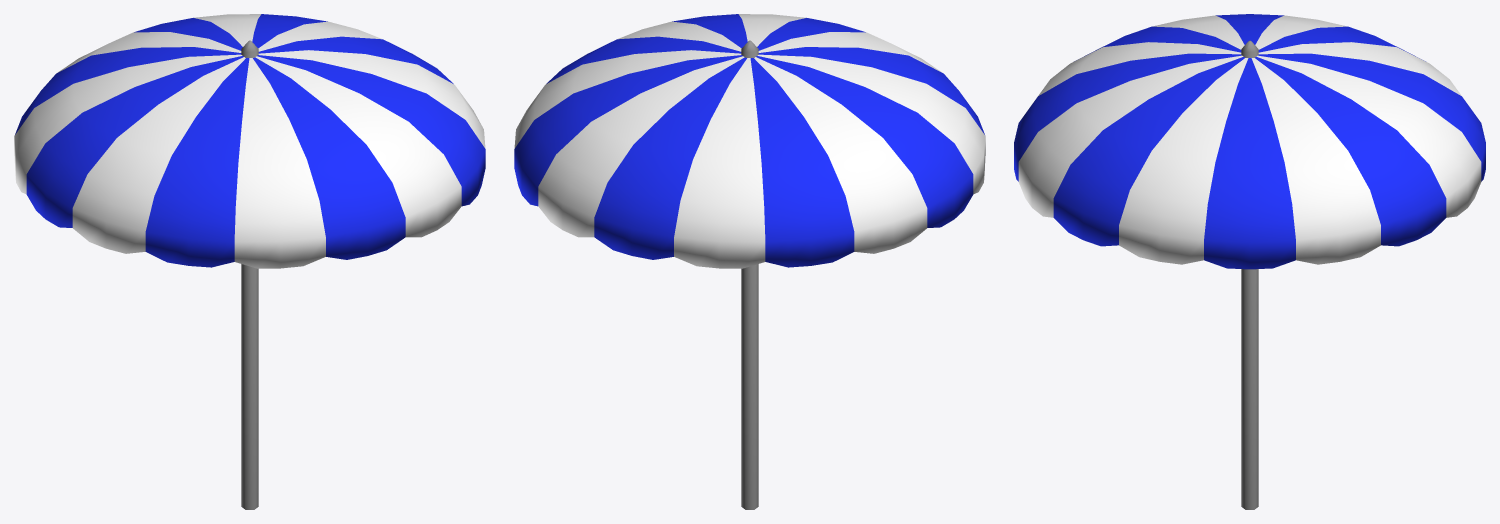
The model's file is Umbrella.fbx.
The picture shows the model from 3 angles, left to right: view 1: azimuth 30°, elevation 25°; view 2: azimuth 150°, elevation 25°; view 3: azimuth 270°, elevation 25°; orthographic projection.
Parts seen in each view (by area): view 1: Umbrella, Umbrella stand; view 2: Umbrella, Umbrella stand; view 3: Umbrella, Umbrella stand.
Part boxes in pixels (<box>): Umbrella: <box>14,14,485,268</box>; Umbrella stand: <box>241,40,258,509</box>; Umbrella: <box>514,14,985,268</box>; Umbrella stand: <box>741,40,758,509</box>; Umbrella: <box>1014,14,1485,269</box>; Umbrella stand: <box>1241,40,1258,509</box>.
Bounding box in the file's own units: 230 × 250 × 230.
